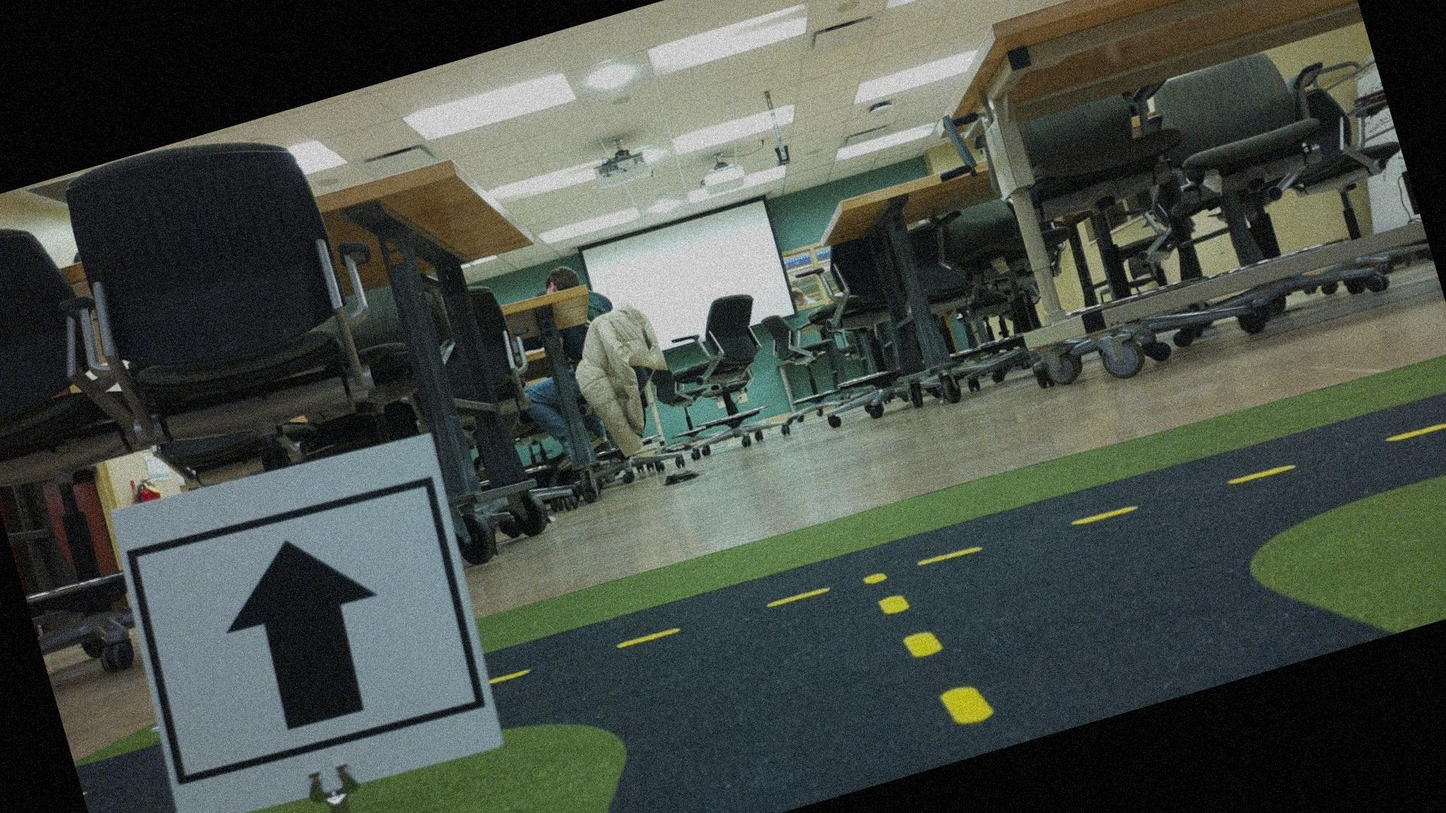gostraight: (115, 437, 508, 812)
yellowline: (493, 394, 1445, 703), (864, 554, 993, 744)
